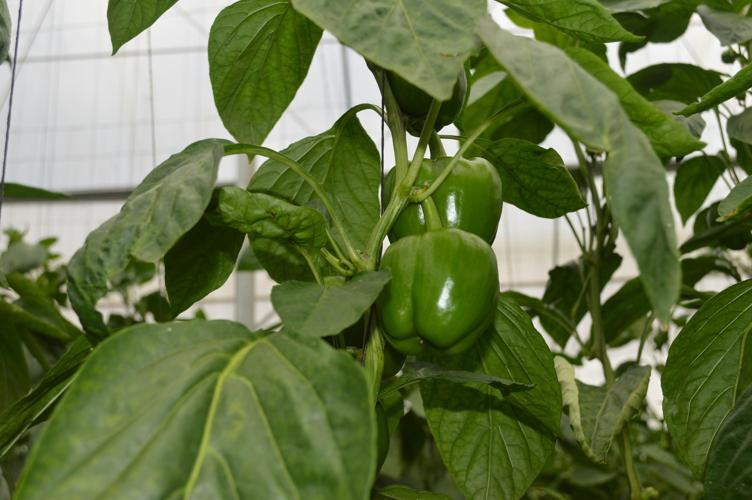BellPepper: (369, 228, 500, 357), (378, 152, 511, 242)
